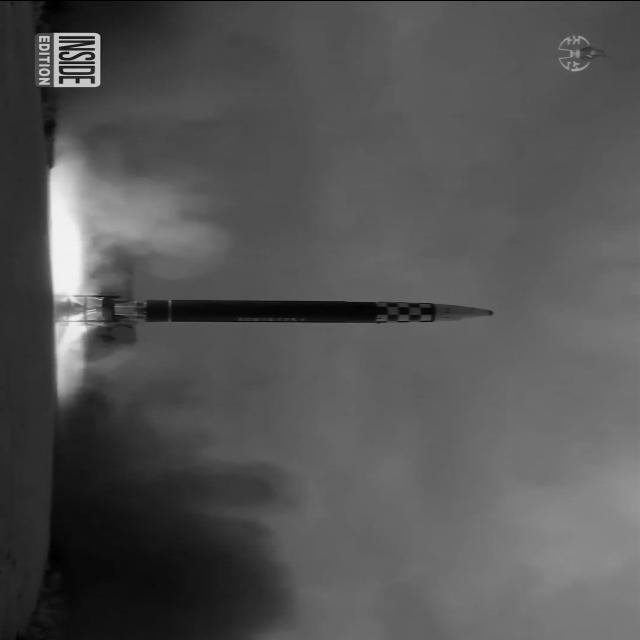Missile: (125, 292, 520, 326)
